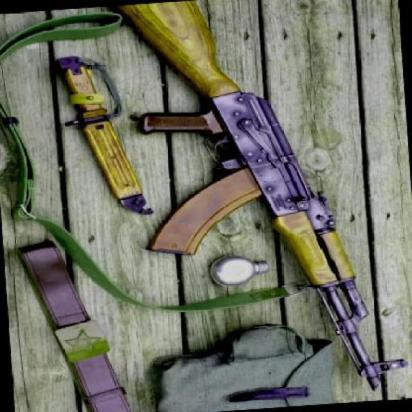Gun: (101, 0, 412, 407)
